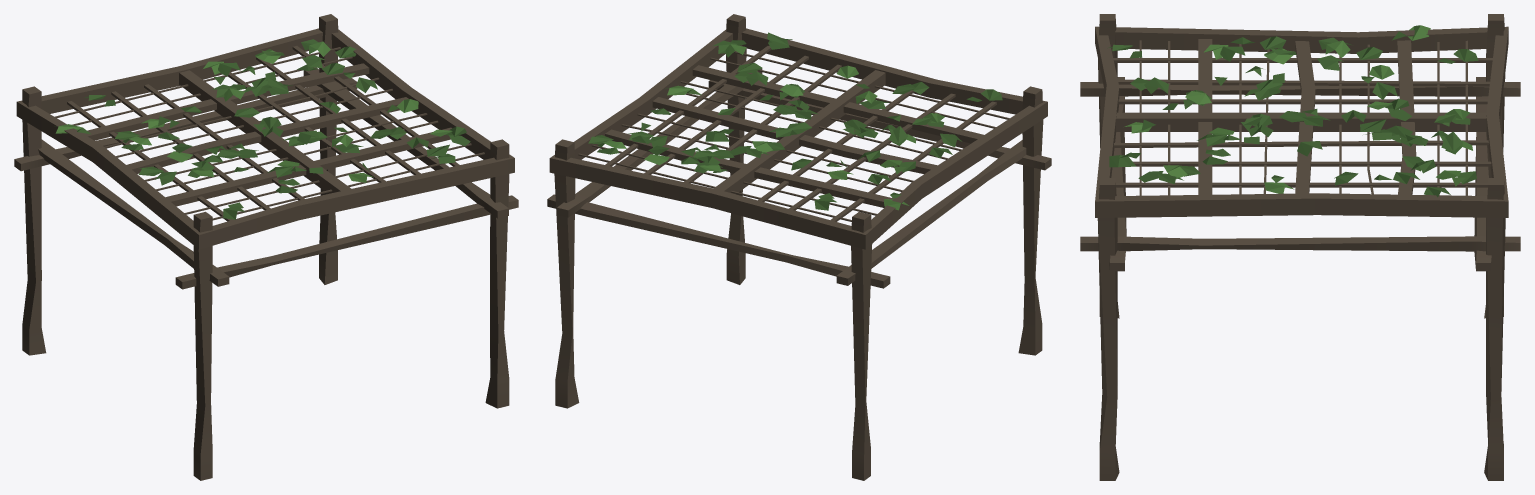
The model's file is SM_Bld_Cuba_Sunshade_01.glb.
3 views of the same model, side by side, from view 1: azimuth 30°, elevation 25°; view 2: azimuth 150°, elevation 25°; view 3: azimuth 270°, elevation 25° (orthographic). The views are drawn at different scales.
Parts seen in each view (by area): view 1: SM_Bld_Cuba_Sunshade_01; view 2: SM_Bld_Cuba_Sunshade_01; view 3: SM_Bld_Cuba_Sunshade_01.
Boxes of the visible parts, left/top/right/bottom form: SM_Bld_Cuba_Sunshade_01: left=14, top=14, right=518, bottom=480; SM_Bld_Cuba_Sunshade_01: left=547, top=14, right=1051, bottom=480; SM_Bld_Cuba_Sunshade_01: left=1080, top=14, right=1520, bottom=480.
Bounding box in the file's own units: 0.0438 × 0.0328 × 0.0438.
